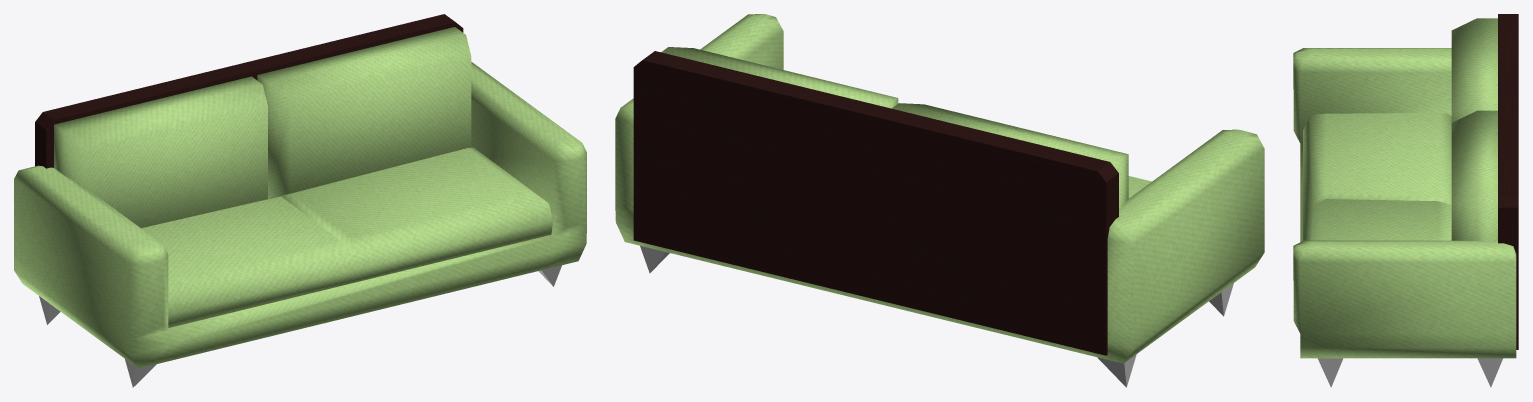
The model's file is Loveseat_05.FBX.
3 views of the same model, side by side, from view 1: azimuth 30°, elevation 25°; view 2: azimuth 150°, elevation 25°; view 3: azimuth 270°, elevation 25° (orthographic). The views are drawn at different scales.
Parts seen in each view (by area): view 1: Loveseat; view 2: Loveseat; view 3: Loveseat.
Part boxes in pixels (x1,y1,x2,y2): Loveseat: (14,14,586,387); Loveseat: (615,14,1264,387); Loveseat: (1293,14,1518,387).
Size of the model in its own units: 372 by 157 by 171.
